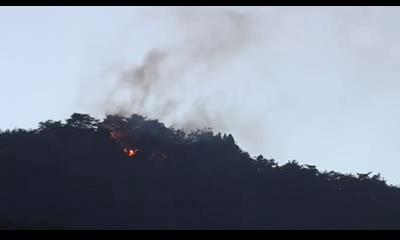fire: (105, 122, 159, 159)
smoke: (116, 56, 215, 112)
